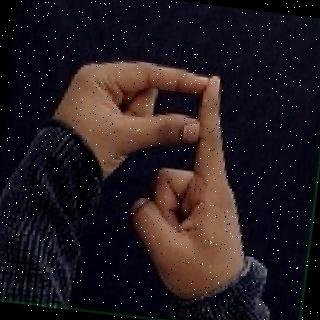P: (31, 40, 274, 297)
